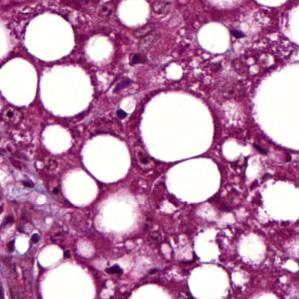steatosis: (140, 94, 213, 162), (40, 61, 95, 119), (168, 157, 220, 206), (81, 135, 135, 182)
